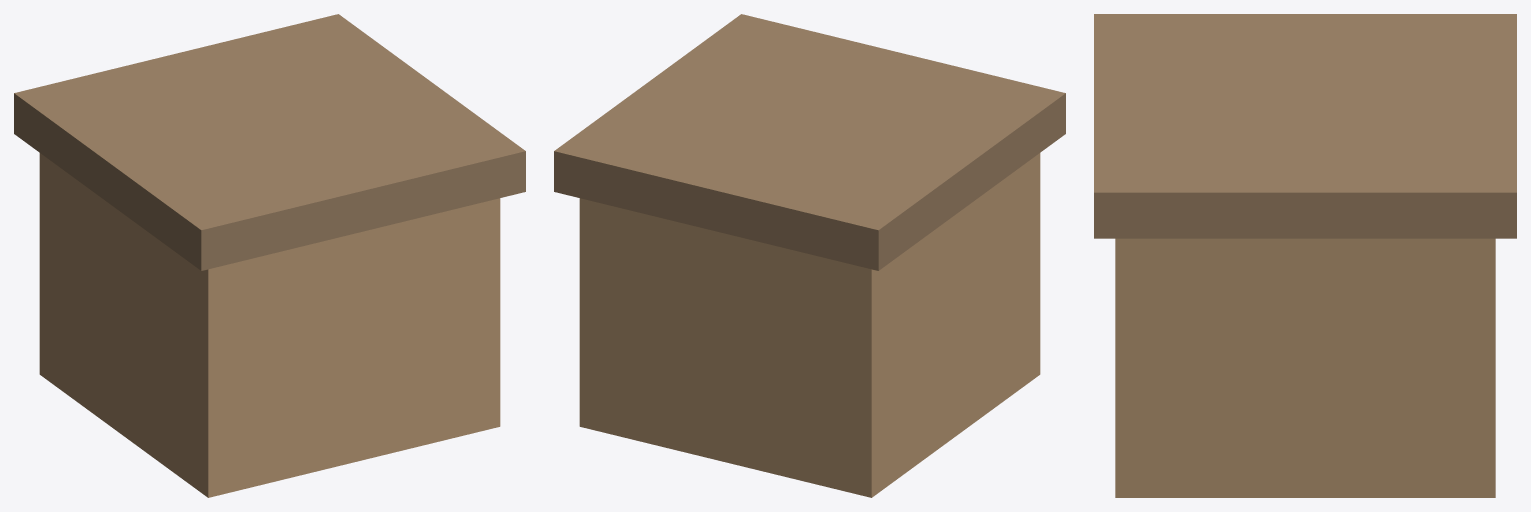
The picture shows the model from 3 angles, left to right: view 1: azimuth 30°, elevation 25°; view 2: azimuth 150°, elevation 25°; view 3: azimuth 270°, elevation 25°; orthographic projection. The views are drawn at different scales.
Parts seen in each view (by area): view 1: body, lid; view 2: body, lid; view 3: body, lid.
Boxes of the visible parts, x1=… form: body: x1=39, y1=153, x2=500, y2=497; lid: x1=14, y1=14, x2=525, y2=270; body: x1=579, y1=153, x2=1040, y2=497; lid: x1=554, y1=14, x2=1065, y2=270; body: x1=1115, y1=238, x2=1495, y2=497; lid: x1=1094, y1=14, x2=1516, y2=238.
Bounding box in the file's own units: 1 × 0.82 × 1.
